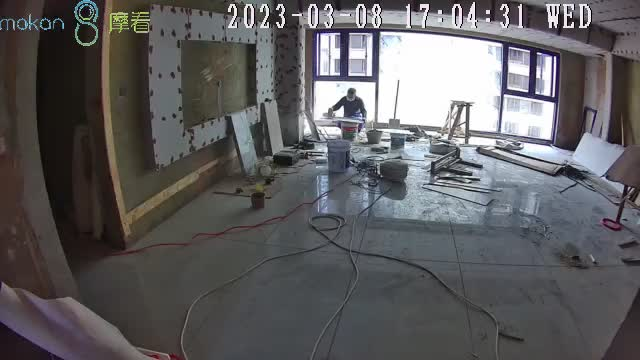people: (328, 87, 369, 132)
window: (312, 27, 560, 150)
